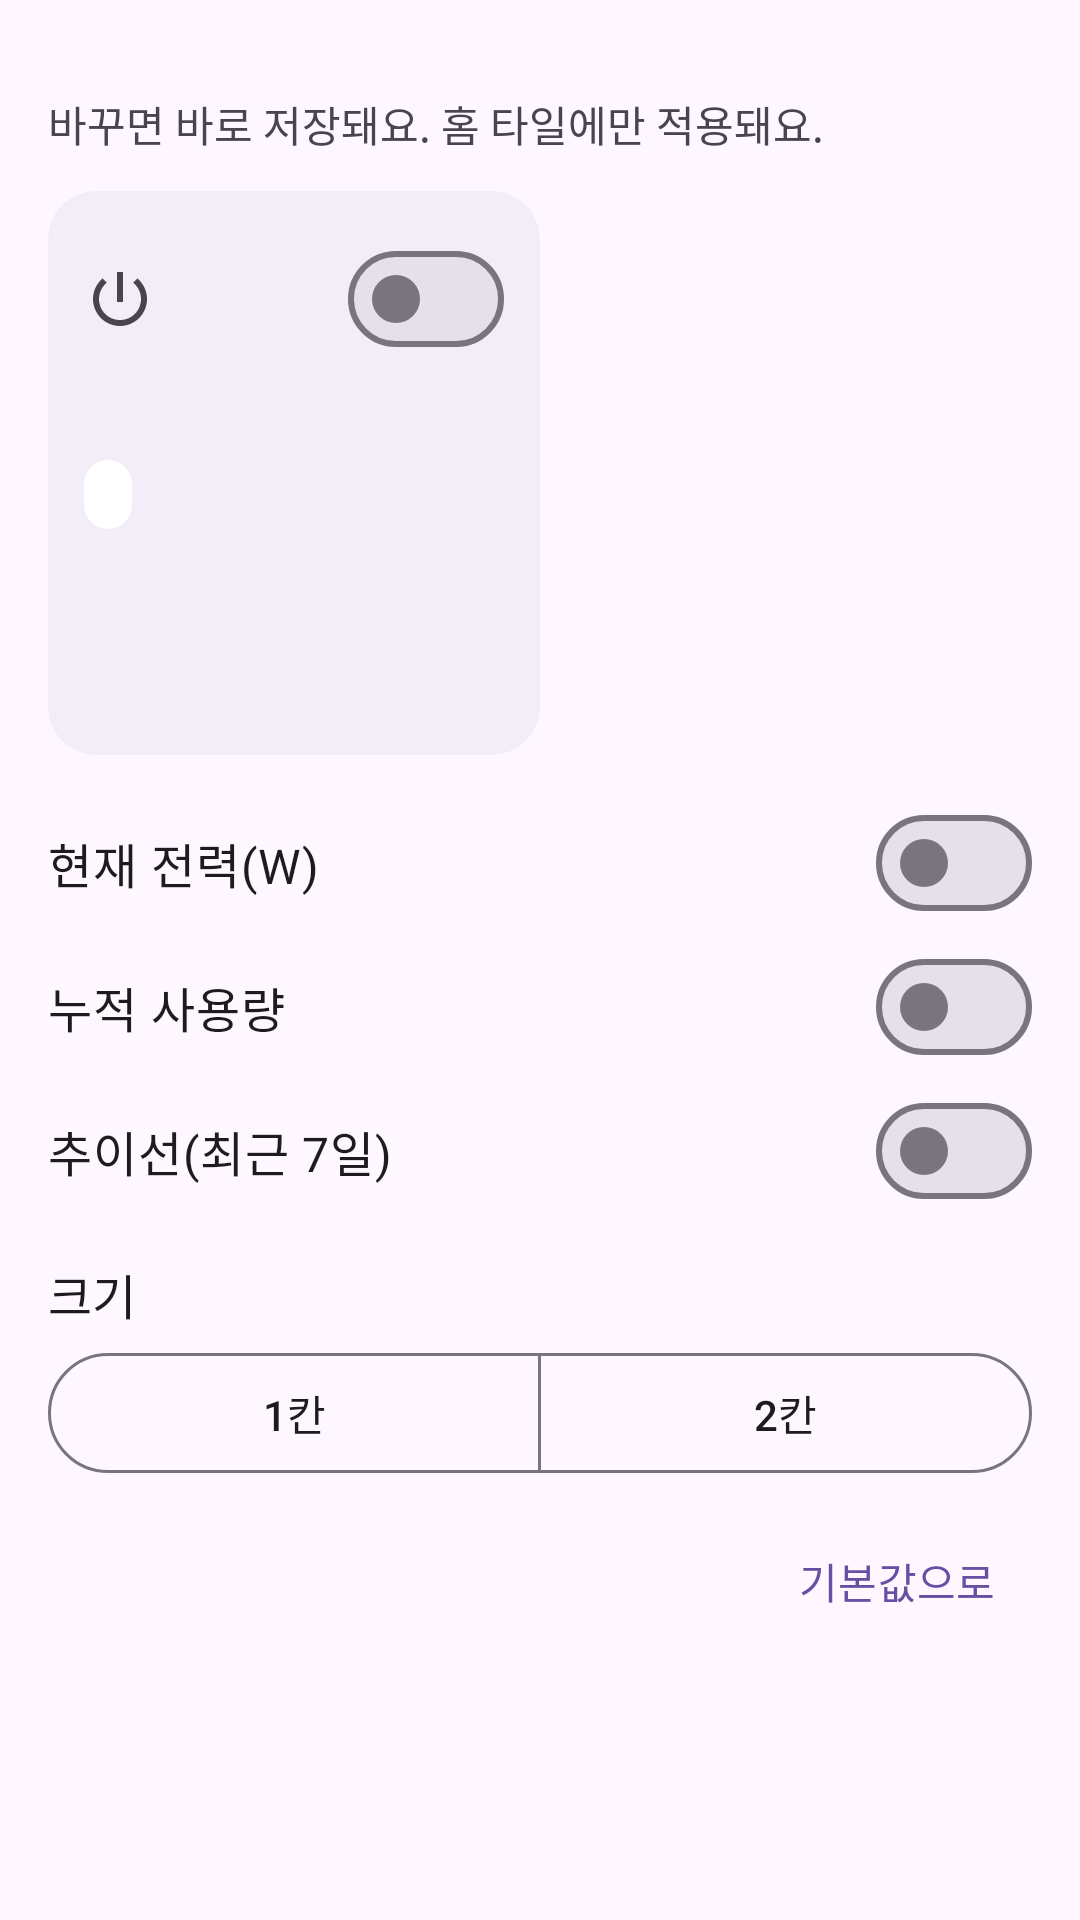

Icon bounding boxes for this 1080 x 1920 phone screenshot, format (x1, y1, x2, y2):
power: (93, 272, 147, 326)
